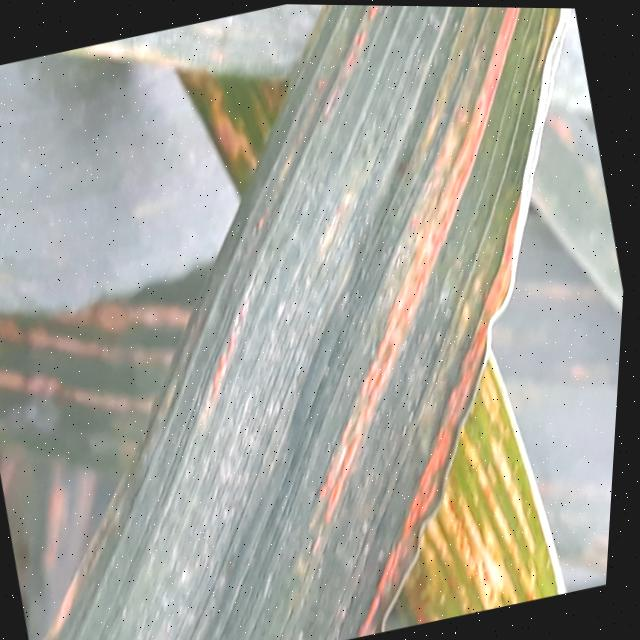yellow_rust: (50, 1, 640, 640), (364, 343, 585, 625), (0, 249, 227, 475), (165, 33, 317, 200)
